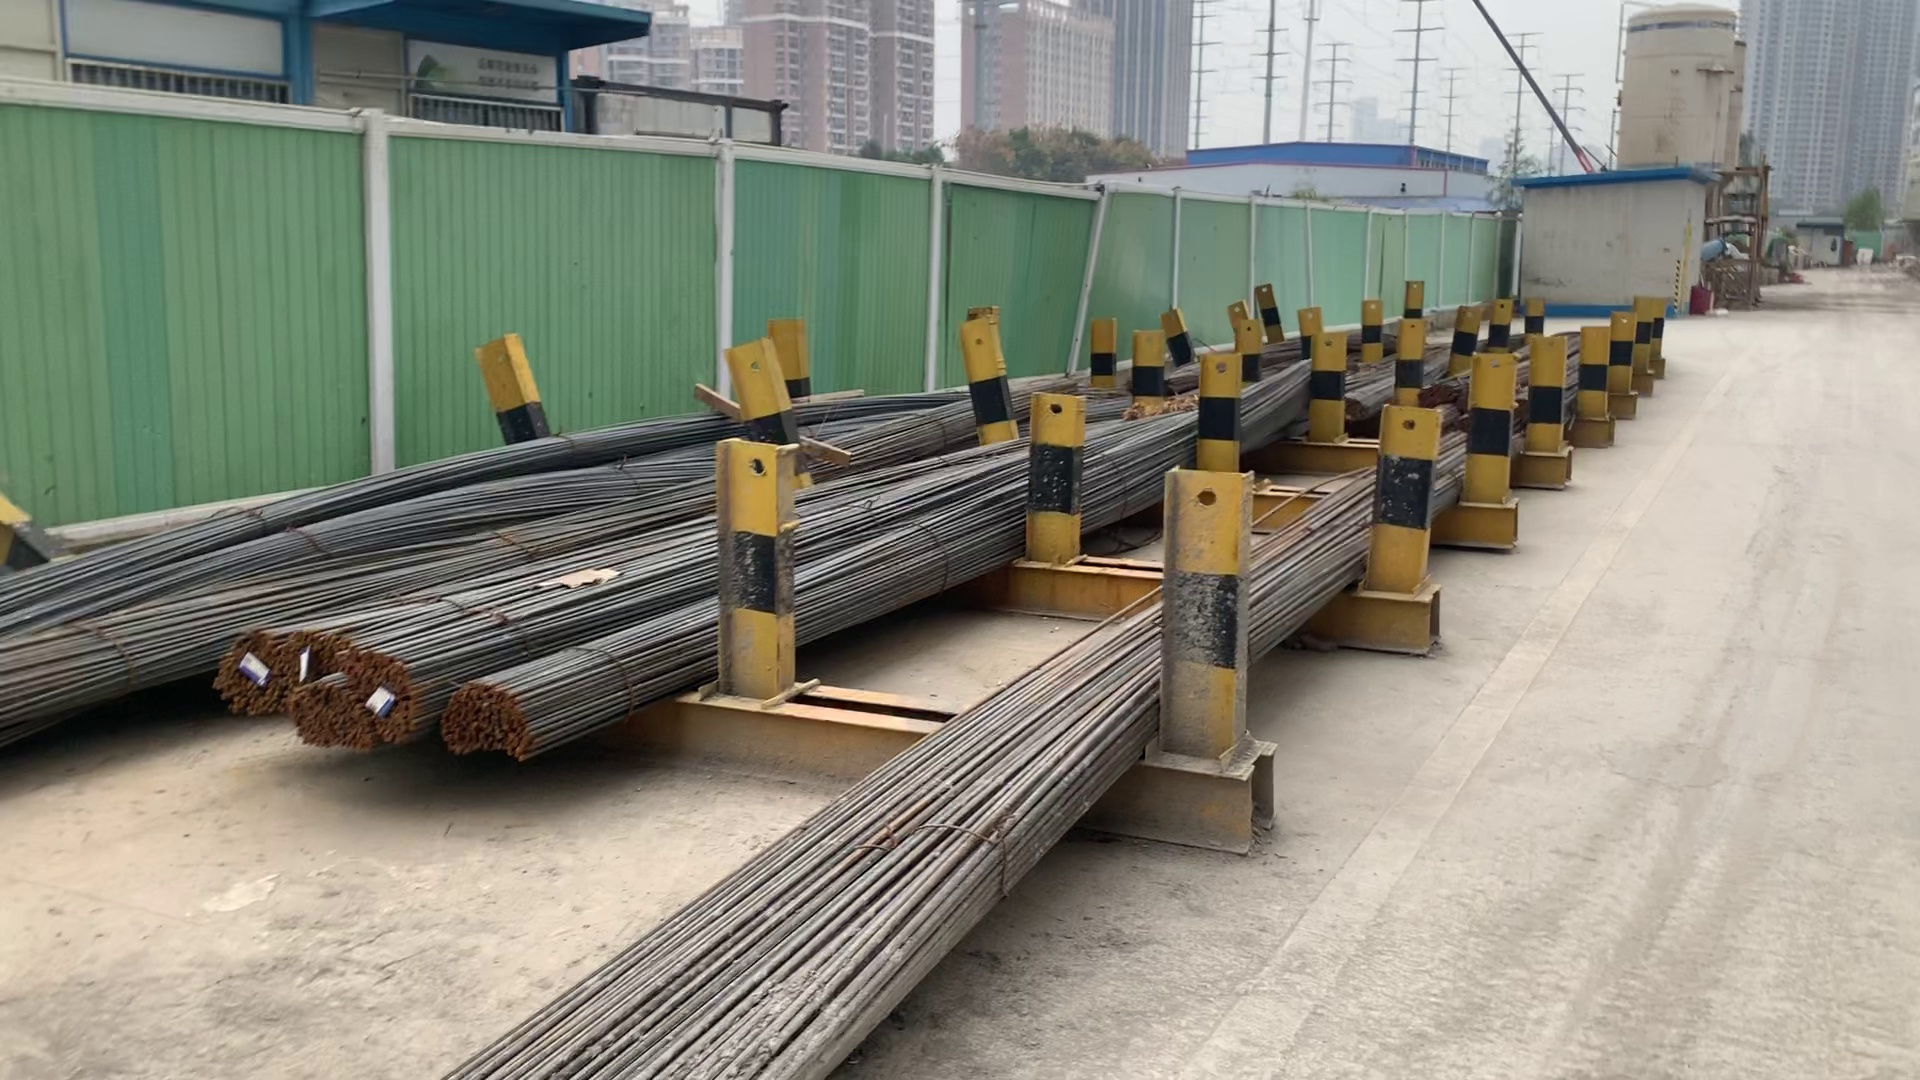rebar: (434, 676, 538, 754), (353, 647, 419, 738), (208, 626, 280, 709), (284, 684, 365, 750), (284, 626, 338, 670)
